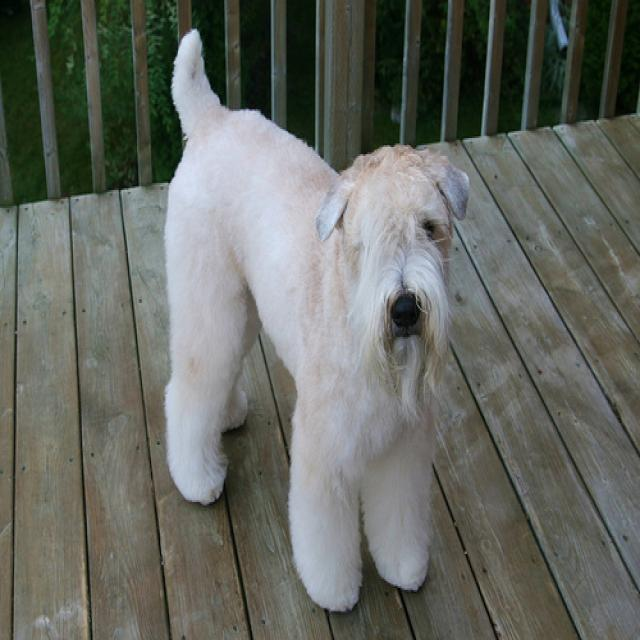dog-wheaten_terrier: (157, 20, 475, 622)
